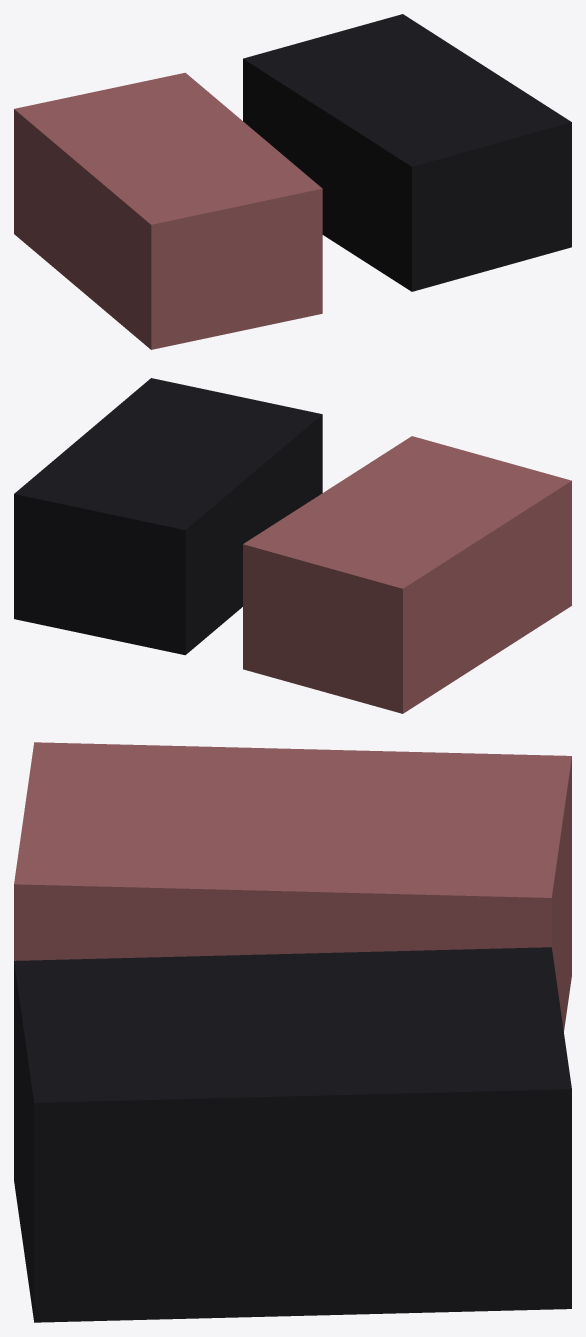
Rendered from feet.glb.
The picture shows the model from 3 angles, top to bottom: view 1: azimuth 30°, elevation 25°; view 2: azimuth 150°, elevation 25°; view 3: azimuth 270°, elevation 25°; orthographic projection. The views are drawn at different scales.
Parts seen in each view (by area): view 1: boot_-1, boot_1; view 2: boot_-1, boot_1; view 3: boot_1, boot_-1.
Boxes of the visible parts, <box> form: boot_-1: <box>14,72,322,349</box>; boot_1: <box>243,14,571,291</box>; boot_-1: <box>243,436,571,713</box>; boot_1: <box>14,378,322,655</box>; boot_1: <box>14,947,571,1322</box>; boot_-1: <box>14,742,571,1031</box>.
Bounding box in the file's own units: 0.6335 × 0.18 × 0.4143.
